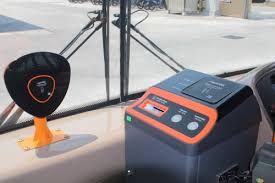terminal: (3, 50, 74, 119)
